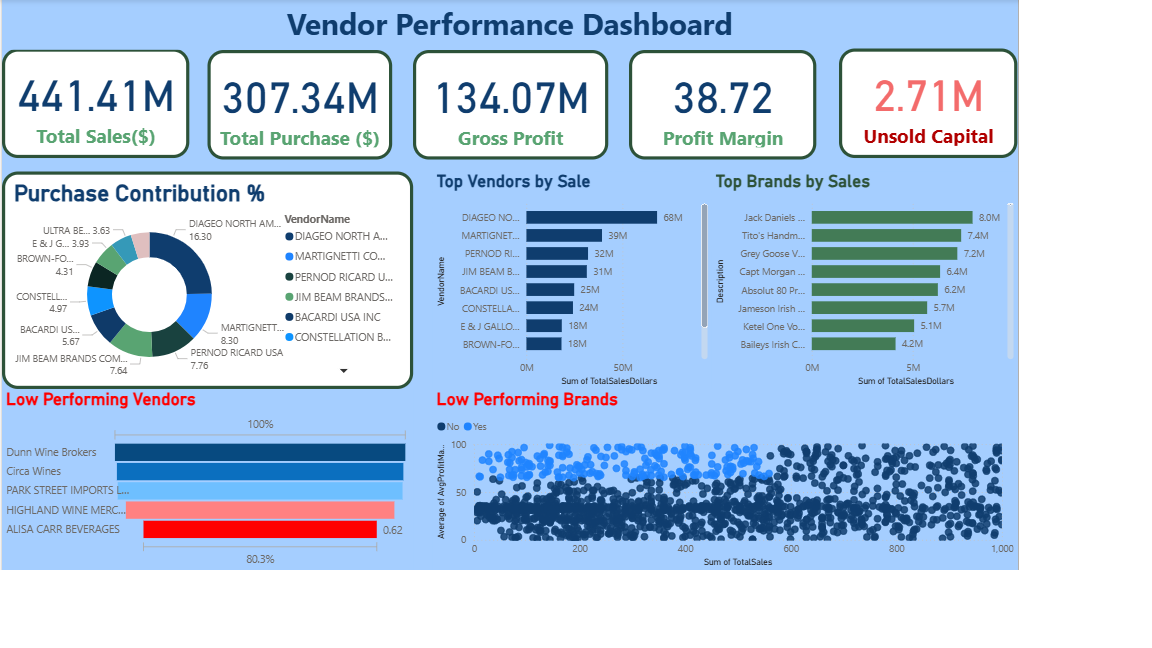

The page's visual inventory and layout, read from the dashboard file:
{"tool":"powerbi","page":{"name":"Page 1","canvas":[1280,720],"ordinal":0},"visuals":[{"type":"card","fields":{"Values":["vendor_sales_summary.TotalSalesDollars"]},"box":[0,62.4,236.2,138],"z":0},{"type":"textbox","box":[0,0,1279.4,64.3],"z":1000},{"type":"card","fields":{"Values":["vendor_sales_summary.TotalPurchaseDollars"]},"box":[258.9,64.3,232.4,138],"z":2000},{"type":"card","fields":{"Values":["vendor_sales_summary.GrossProfit"]},"box":[517.8,64.3,245.7,138],"z":3000},{"type":"card","fields":{"Values":["vendor_sales_summary.ProfitMargin"]},"box":[789.9,64.3,236.2,138],"z":4000},{"type":"card","fields":{"Values":["vendor_sales_summary.UnsoldInventoryValue"]},"box":[1054.5,62.4,224.9,138],"z":5000},{"type":"donutChart","title":"Purchase Contribution % ","fields":{"Category":["PurchaseContribution.VendorName"],"Y":["PurchaseContribution.PurchaseContribution%"]},"box":[0,217.3,517.8,274],"z":6000},{"type":"barChart","title":"Top Vendors by Sale","fields":{"Category":["vendor_sales_summary.VendorName"],"Y":["vendor_sales_summary.TotalSalesDollars"]},"box":[542.4,217.3,351.5,274],"z":6001},{"type":"barChart","title":"Top Brands by Sales","fields":{"Category":["vendor_sales_summary.Description"],"Y":["vendor_sales_summary.TotalSalesDollars"]},"box":[893.9,217.3,385.5,274],"z":6002},{"type":"funnel","title":"Low Performing Vendors","fields":{"Category":["LowTurnoverVendor.VendorName"],"Y":["LowTurnoverVendor.AvgStockTurnOver"]},"box":[0,491.3,517.8,228.7],"z":6003},{"type":"scatterChart","title":"Low Performing Brands","fields":{"Category":["BrandPerformance.Description"],"X":["BrandPerformance.TotalSales"],"Y":["BrandPerformance.AvgProfitMargin"],"Series":["BrandPerformance.TargetBrand"]},"box":[542.4,491.3,737,228.7],"z":6004}]}

Visuals, with their boxes in screenshot pixels (x1, y1, x2, y2), scaled from the page's 1280x720 canvas onto the 1152x648 screenshot:
card - vendor_sales_summary.TotalSalesDollars: Rect(0, 56, 213, 180)
textbox: Rect(0, 0, 1151, 58)
card - vendor_sales_summary.TotalPurchaseDollars: Rect(233, 58, 442, 182)
card - vendor_sales_summary.GrossProfit: Rect(466, 58, 687, 182)
card - vendor_sales_summary.ProfitMargin: Rect(711, 58, 923, 182)
card - vendor_sales_summary.UnsoldInventoryValue: Rect(949, 56, 1151, 180)
"Purchase Contribution % " donutChart: Rect(0, 196, 466, 442)
"Top Vendors by Sale" barChart: Rect(488, 196, 805, 442)
"Top Brands by Sales" barChart: Rect(805, 196, 1151, 442)
"Low Performing Vendors" funnel: Rect(0, 442, 466, 647)
"Low Performing Brands" scatterChart: Rect(488, 442, 1151, 647)
